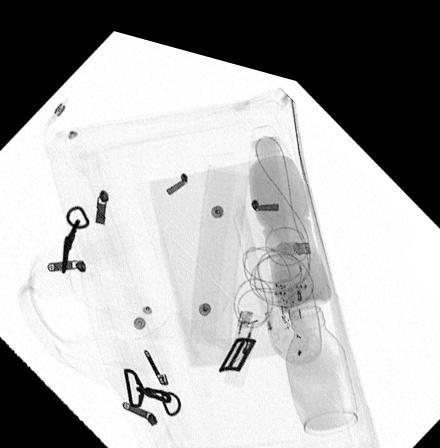Lighter: (221, 297, 259, 375)
